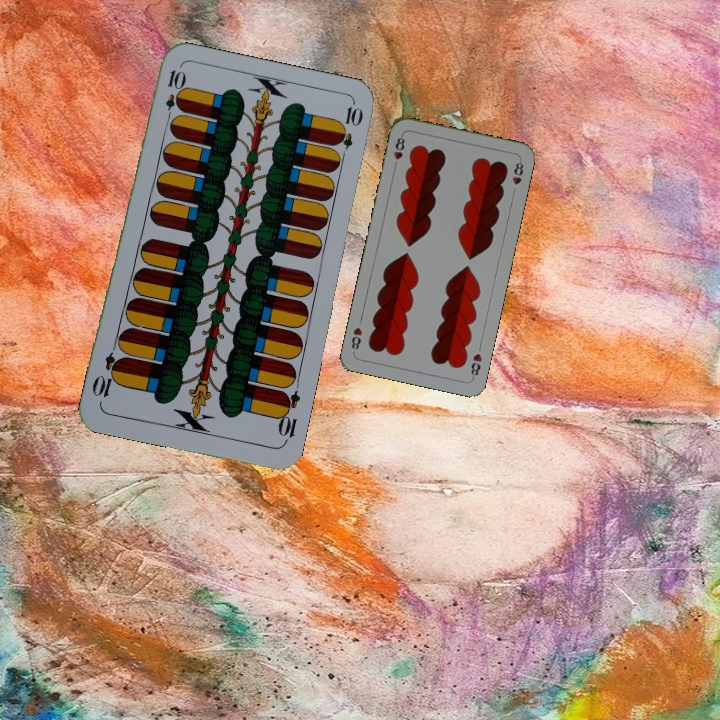E10: (273, 387, 303, 446), (161, 66, 185, 125)
H8: (389, 131, 407, 171), (467, 349, 485, 381)
